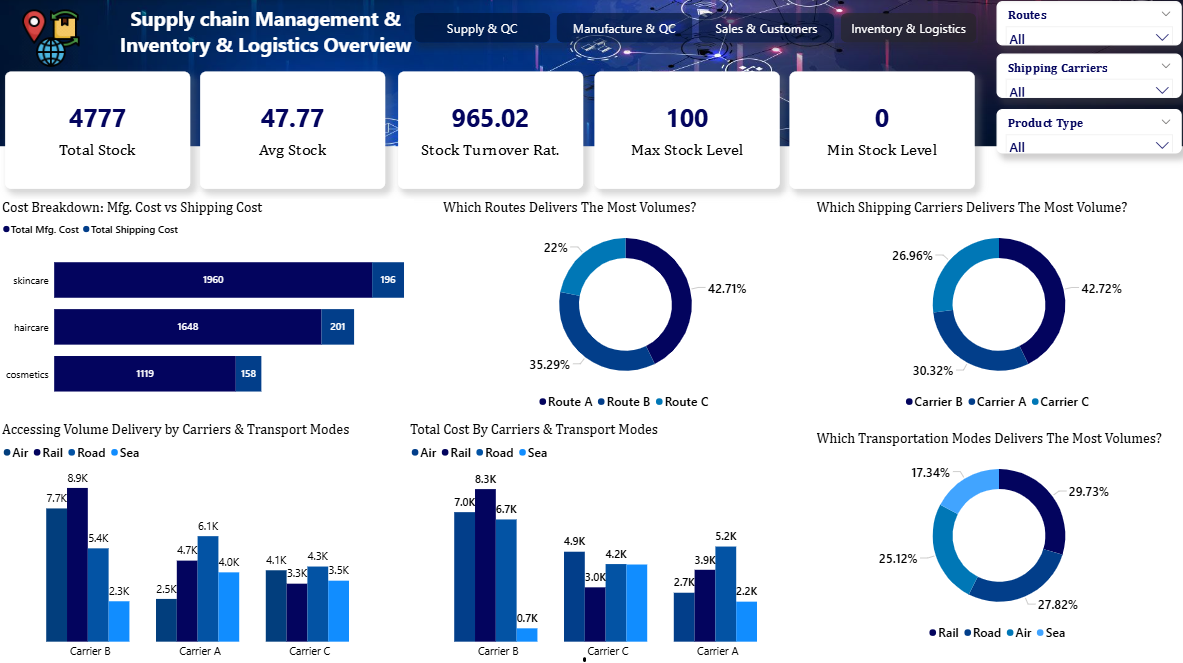

Layout of this report page (visuals, bound fields, positions):
{"tool":"powerbi","page":{"name":"Inventory & Logistics ","canvas":[1920,1080],"ordinal":3},"visuals":[{"type":"image","box":[0,0,1920,240],"z":0},{"type":"image","box":[0,16,168,96],"z":1000},{"type":"textbox","box":[168,6,528,96],"z":2000},{"type":"cardVisual","fields":{"Data":["supply_chain_data.Total Stock"]},"box":[10,120,300,190],"z":3000},{"type":"cardVisual","fields":{"Data":["supply_chain_data.Avg Stock"]},"box":[325,120,300,190],"z":4000},{"type":"cardVisual","fields":{"Data":["supply_chain_data.Stock Turnover Ratio"]},"box":[645,120,300,190],"z":5000},{"type":"donutChart","title":"Which Shipping Carriers Delivers The Most Volume?","fields":{"Category":["supply_chain_data.Shipping_Carriers"],"Y":["supply_chain_data.Total Production Volume"]},"box":[1320,325,600,350],"z":6000},{"type":"donutChart","title":"Which Transportation Modes Delivers The Most Volumes?","fields":{"Category":["supply_chain_data.Transportation_Modes"],"Y":["supply_chain_data.Total Production Volume"]},"box":[1320,700,600,350],"z":7000},{"type":"donutChart","title":"Which Routes Delivers The Most Volumes?","fields":{"Category":["supply_chain_data.Routes"],"Y":["supply_chain_data.Total Production Volume"]},"box":[715,325,600,350],"z":8000},{"type":"clusteredColumnChart","title":"Total Cost By Carriers & Transport Modes","fields":{"Category":["supply_chain_data.Shipping_Carriers"],"Series":["supply_chain_data.Transportation_Modes"],"Y":["supply_chain_data.Total Cost"]},"box":[660,685,650,395],"z":9000},{"type":"clusteredColumnChart","title":"Accessing Volume Delivery by Carriers & Transport Modes","fields":{"Category":["supply_chain_data.Shipping_Carriers"],"Series":["supply_chain_data.Transportation_Modes"],"Y":["supply_chain_data.Total Production Volume"]},"box":[0,685,650,395],"z":10000},{"type":"slicer","fields":{"Values":["supply_chain_data.Routes"]},"box":[1615,5,300,72],"z":12000},{"type":"pageNavigator","box":[672,24,912,48],"z":13000},{"type":"slicer","fields":{"Values":["supply_chain_data.Shipping_Carriers"]},"box":[1615,90,300,72],"z":14000},{"type":"cardVisual","fields":{"Data":["supply_chain_data.Max Stock Level"]},"box":[965,120,300,190],"z":15000},{"type":"cardVisual","fields":{"Data":["supply_chain_data.Min Stock Level"]},"box":[1280,120,300,190],"z":16000},{"type":"slicer","fields":{"Values":["supply_chain_data.Product_Type"]},"box":[1615,180,300,72],"z":17000},{"type":"barChart","title":"Cost Breakdown: Mfg. Cost vs Shipping Cost","fields":{"Y":["supply_chain_data.Total Mfg. Cost","supply_chain_data.Total Shipping Cost"],"Category":["supply_chain_data.Product_Type"]},"box":[0,325,672,350],"z":18000}]}

Visuals, with their boxes in screenshot pixels (x1, y1, x2, y2), scaled from the page's 1920x1080 canvas onto the 1183x663 screenshot:
image: Rect(0, 0, 1182, 147)
image: Rect(0, 10, 104, 69)
textbox: Rect(104, 4, 429, 63)
cardVisual - supply_chain_data.Total Stock: Rect(6, 74, 191, 190)
cardVisual - supply_chain_data.Avg Stock: Rect(200, 74, 385, 190)
cardVisual - supply_chain_data.Stock Turnover Ratio: Rect(397, 74, 582, 190)
"Which Shipping Carriers Delivers The Most Volume?" donutChart: Rect(813, 200, 1182, 414)
"Which Transportation Modes Delivers The Most Volumes?" donutChart: Rect(813, 430, 1182, 645)
"Which Routes Delivers The Most Volumes?" donutChart: Rect(441, 200, 810, 414)
"Total Cost By Carriers & Transport Modes" clusteredColumnChart: Rect(407, 421, 807, 662)
"Accessing Volume Delivery by Carriers & Transport Modes" clusteredColumnChart: Rect(0, 421, 400, 662)
slicer - supply_chain_data.Routes: Rect(995, 3, 1180, 47)
pageNavigator: Rect(414, 15, 976, 44)
slicer - supply_chain_data.Shipping_Carriers: Rect(995, 55, 1180, 99)
cardVisual - supply_chain_data.Max Stock Level: Rect(595, 74, 779, 190)
cardVisual - supply_chain_data.Min Stock Level: Rect(789, 74, 974, 190)
slicer - supply_chain_data.Product_Type: Rect(995, 110, 1180, 155)
"Cost Breakdown: Mfg. Cost vs Shipping Cost" barChart: Rect(0, 200, 414, 414)
